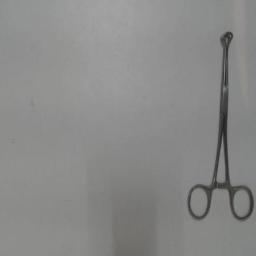Babcock Tissue Forceps: (185, 30, 255, 224)
